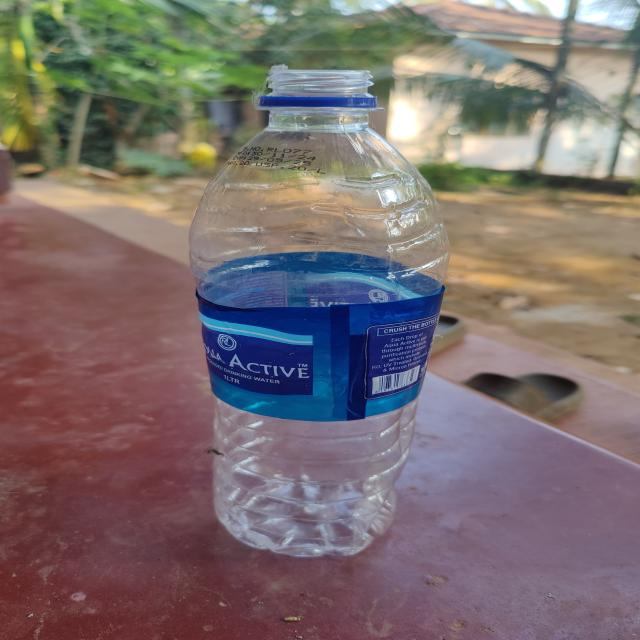plastic: (194, 62, 436, 558)
